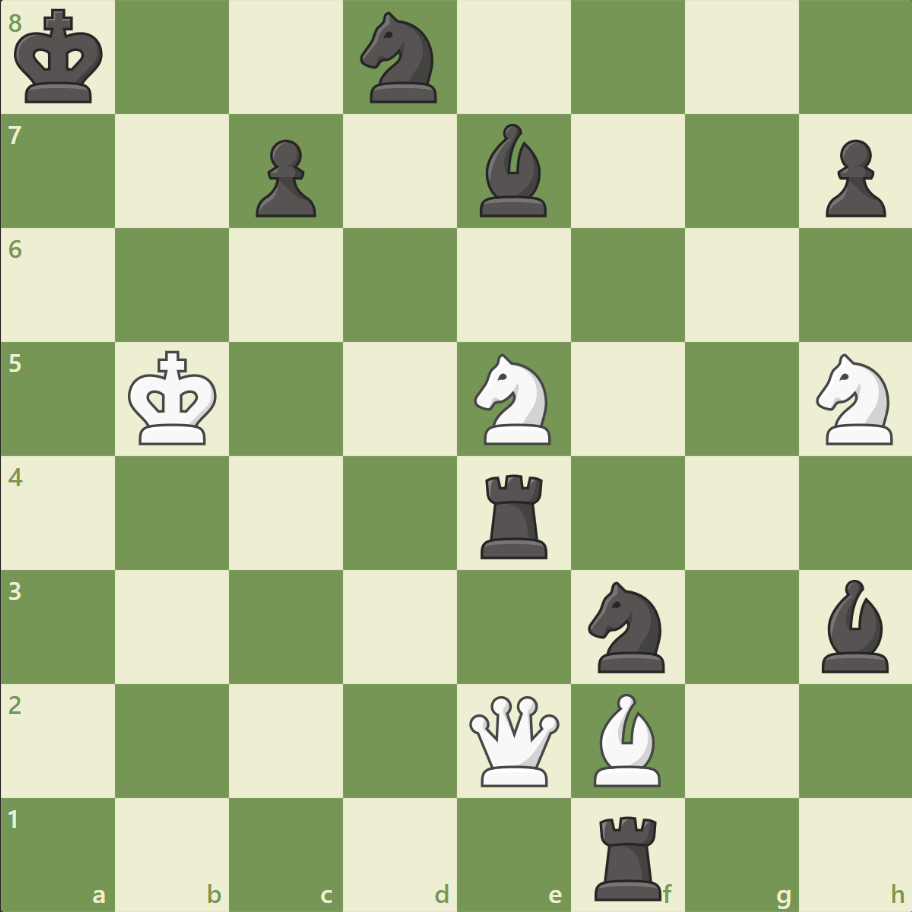B: (585, 687, 669, 790)
K: (124, 344, 224, 452)
N: (465, 348, 562, 450), (806, 348, 903, 450)
Q: (464, 690, 563, 789)
b: (471, 120, 555, 222), (812, 574, 896, 676)
k: (11, 4, 111, 112)
n: (351, 7, 449, 110), (579, 575, 676, 677)
p: (247, 132, 322, 223), (815, 132, 889, 223)
r: (587, 806, 670, 904), (473, 466, 556, 563)
